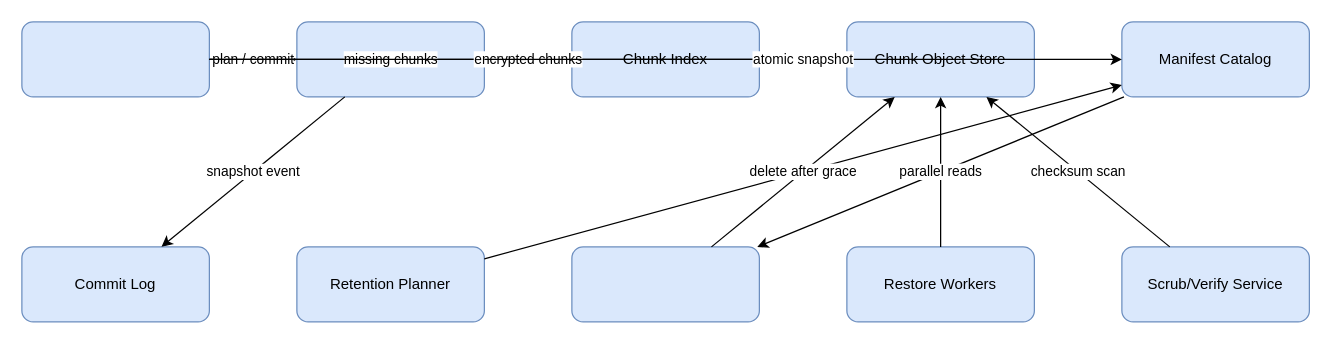
The diagram is 1331 pixels wide and 344 high, and some of its shapes have lost their labels. Here are the shapes that lost their labels. From the top down, the centre of each, then its label:
At pixel 115 59: "Backup Agents".
At pixel 390 59: "Backup Coordinator".
At pixel 665 284: "Garbage Collector".
